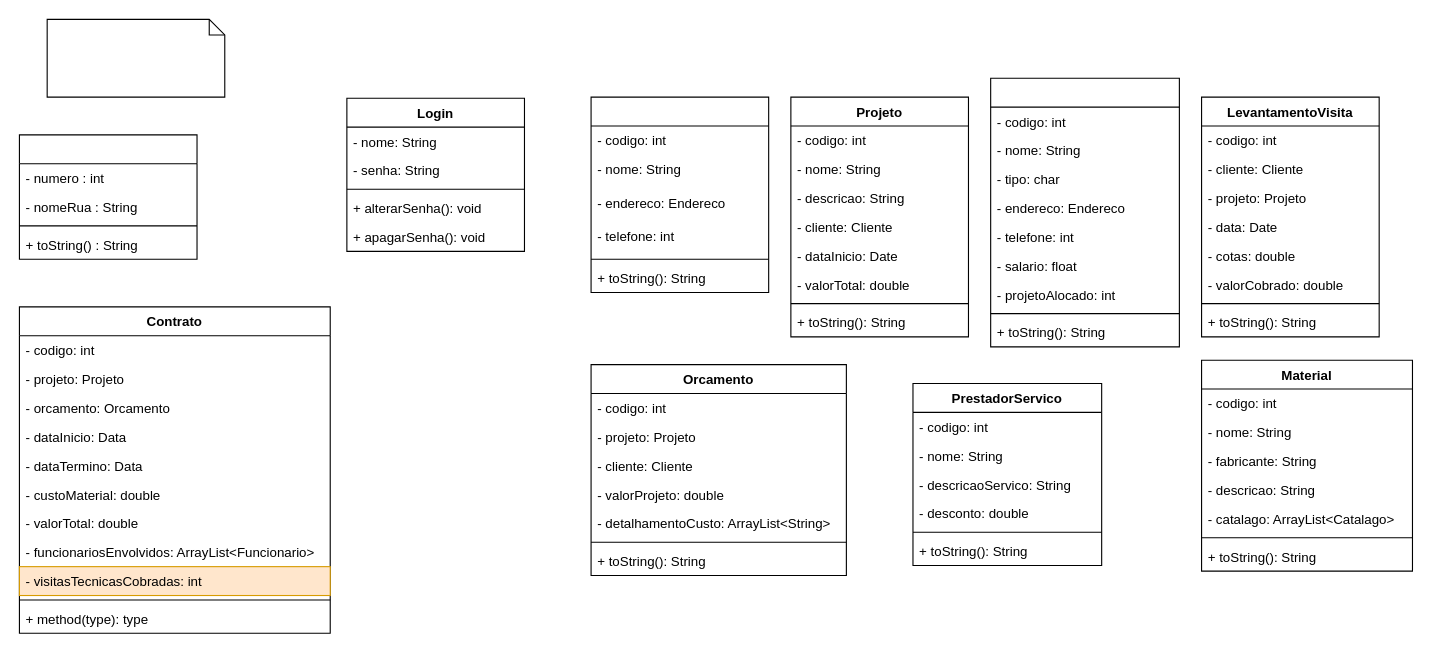
Image size: 1432x656. Some labels were removed from this diagram. Each missing label, with the box of its shape:
Cliente: (590, 96, 769, 292)
Endereco: (18, 134, 197, 259)
Funcionario: (990, 77, 1179, 347)
Referência Akaunting: alternativeto.net: (46, 18, 225, 97)
